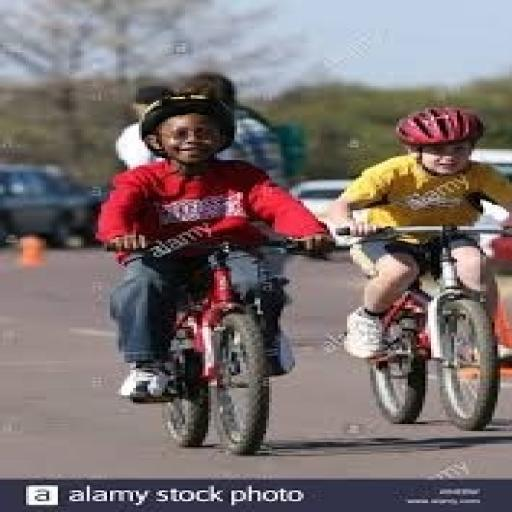cycling: (92, 92, 338, 402), (327, 104, 509, 365)
